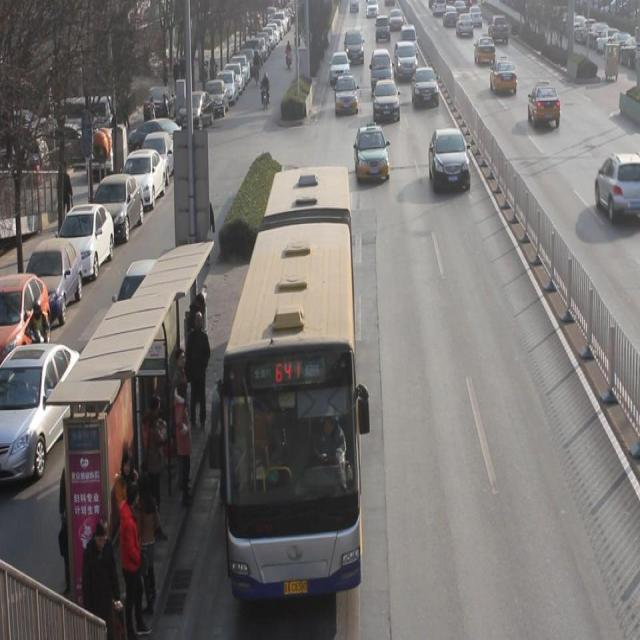car: (595, 152, 640, 224), (428, 128, 472, 194), (354, 123, 389, 183), (527, 81, 561, 129), (373, 80, 400, 126), (411, 66, 440, 107), (490, 55, 518, 96), (335, 75, 359, 117), (394, 40, 419, 80), (345, 30, 364, 66), (474, 35, 496, 66), (330, 51, 351, 83)
truck: (369, 50, 394, 90), (400, 24, 418, 54)
van: (226, 168, 360, 589)
